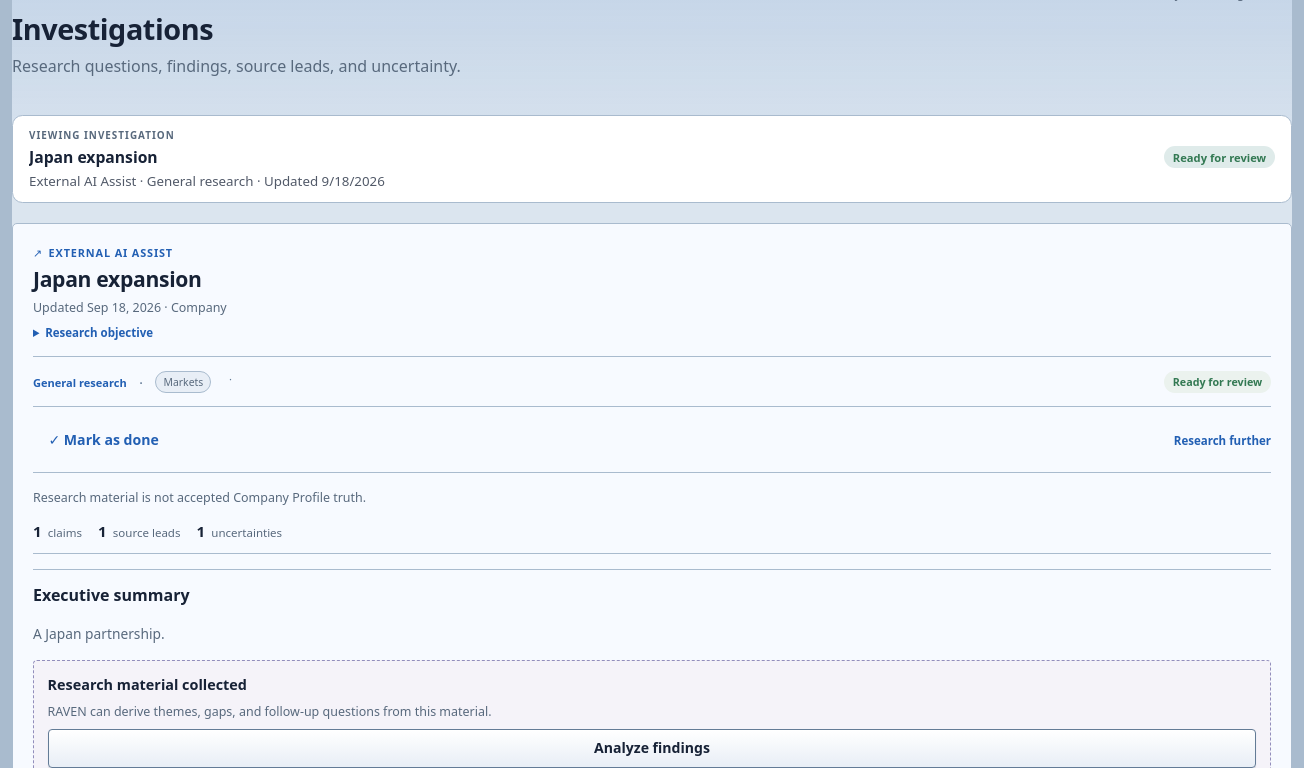
CompanyInvestigationsTab › analyzes only the selected saved Investigation and preserves raw material
This screenshot has width=1304, height=768.
Expected: the heading "Japan expansion" is shown, [33,264,227,292]
Click the button "Analyze findings". click: coordinates (652, 749)
box: [48,729,1256,767]
(page scrolled)
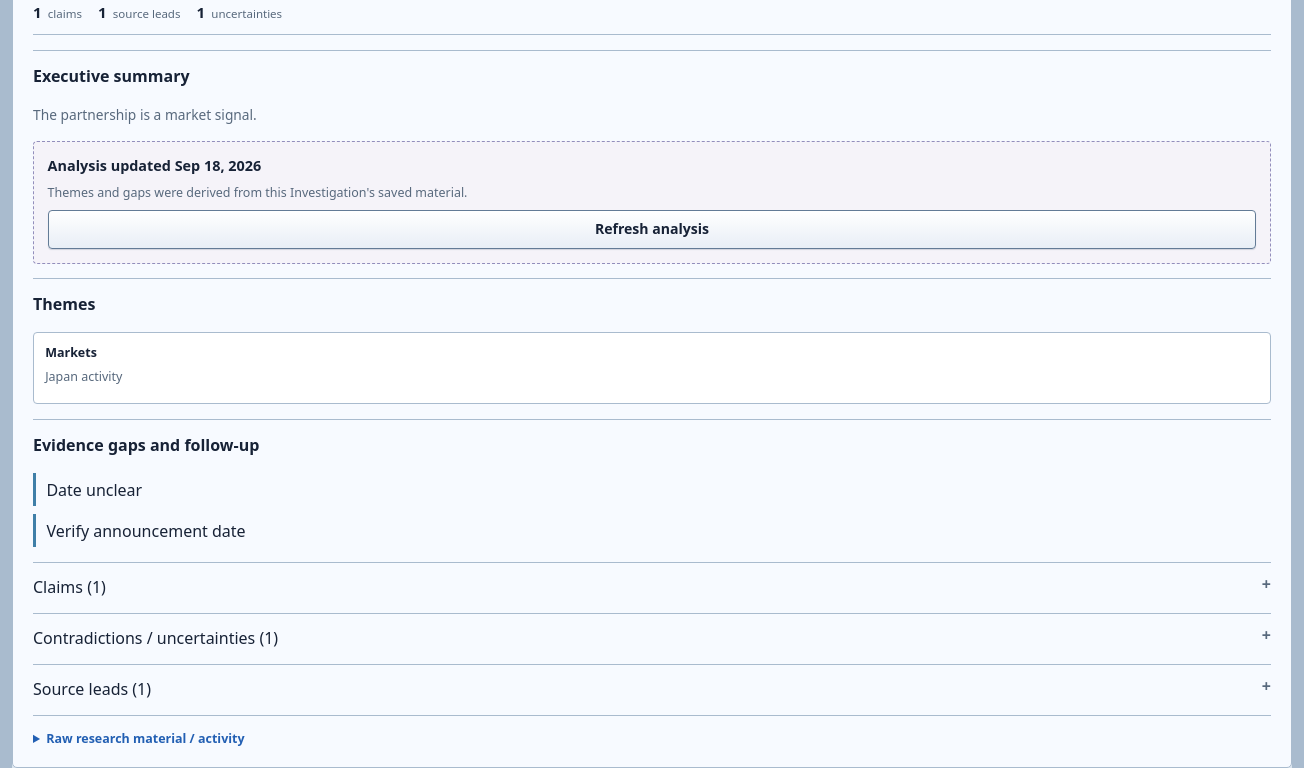
Expected: the text "The partnership is a market signal." is shown, [33,105,257,124]
Click the heading "Raw research material / activity". click: coordinates (145, 739)
box: [46,730,245,747]
(page scrolled)
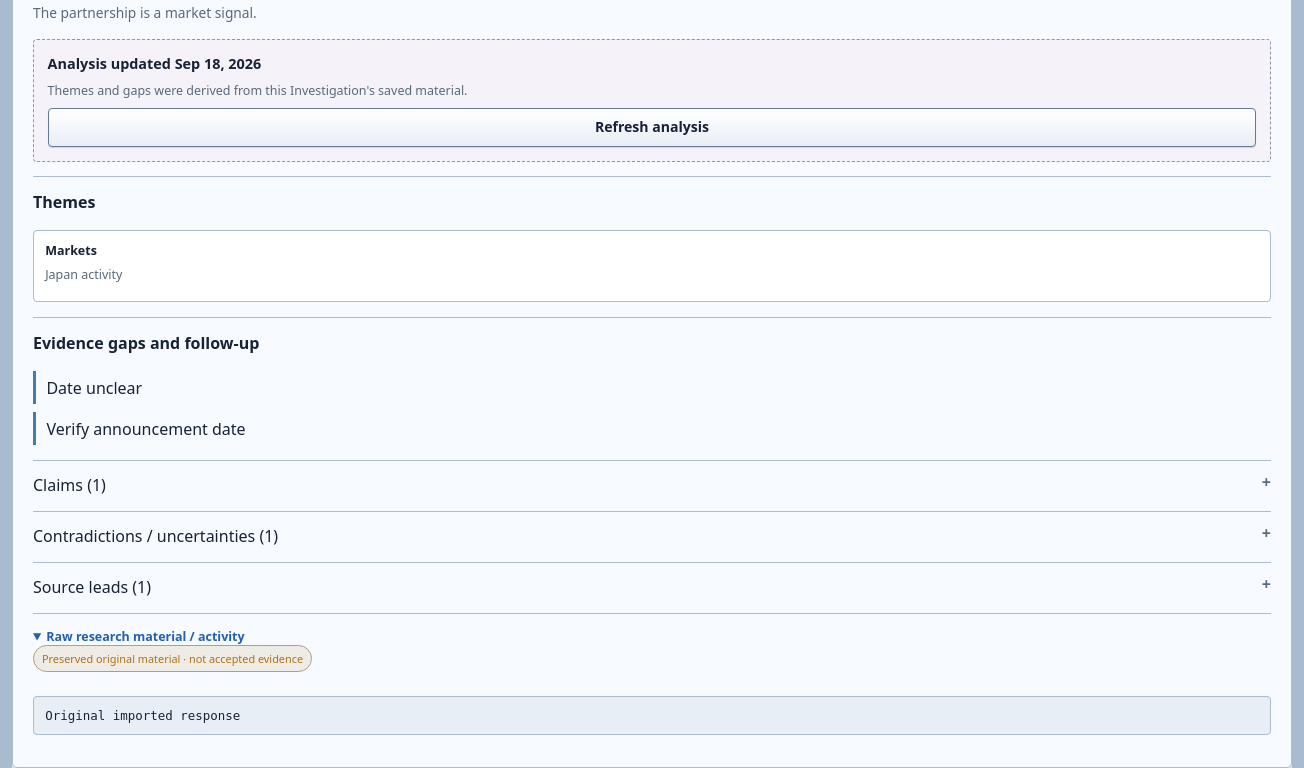
Expected: the text "Original imported response" is shown, [33,696,1271,735]
